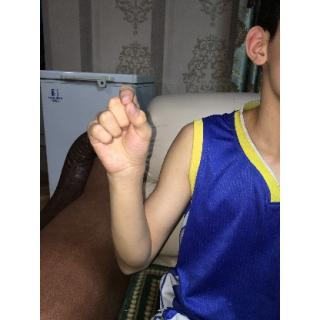FAA: (84, 86, 156, 176)
